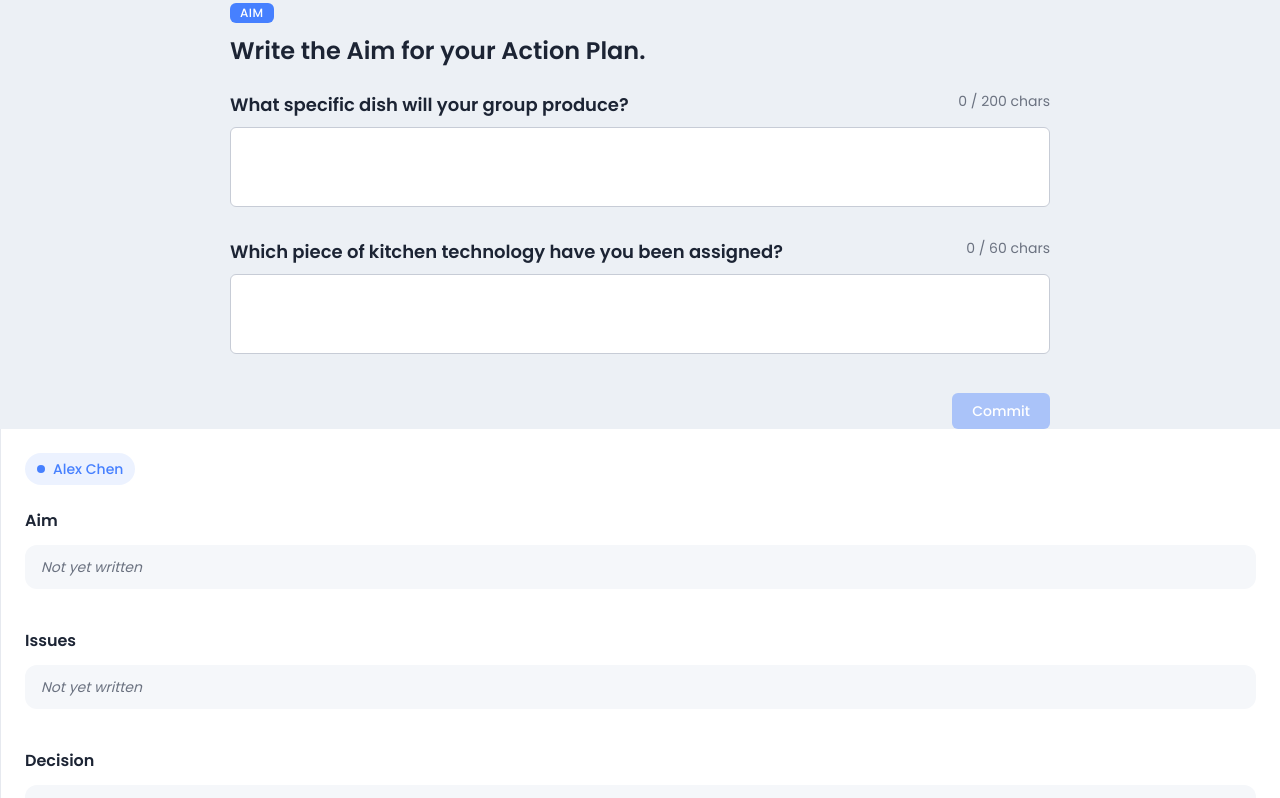
Scenario: SlideScaffold — commit flow › clicking Commit replaces the Commit button with Edit
Type "vanilla custard French toast" into the text box labelled "What specific dish will your group produce?" at (640, 167), box [230,127,1050,207]
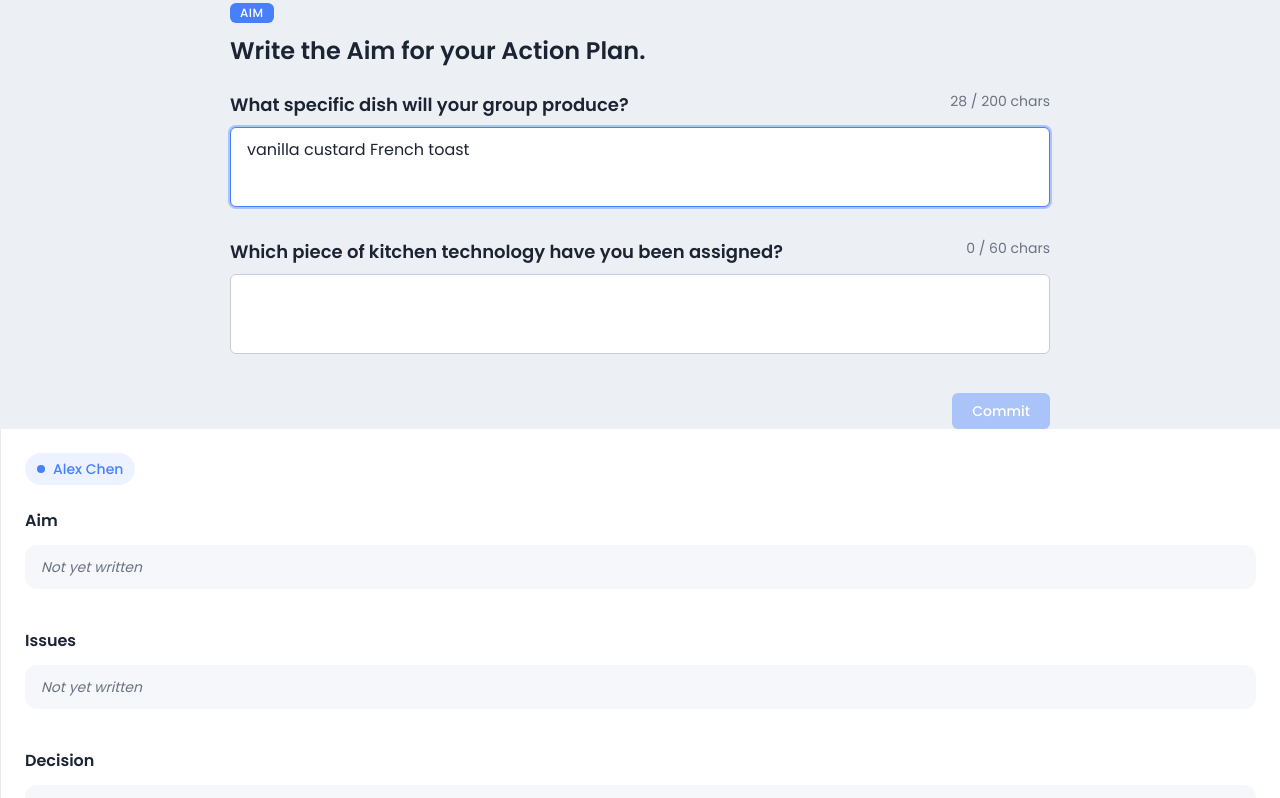
Type "Thermomix" into the text box labelled "Which piece of kitchen technology have you been assigned?" at (640, 314), box [230,274,1050,354]
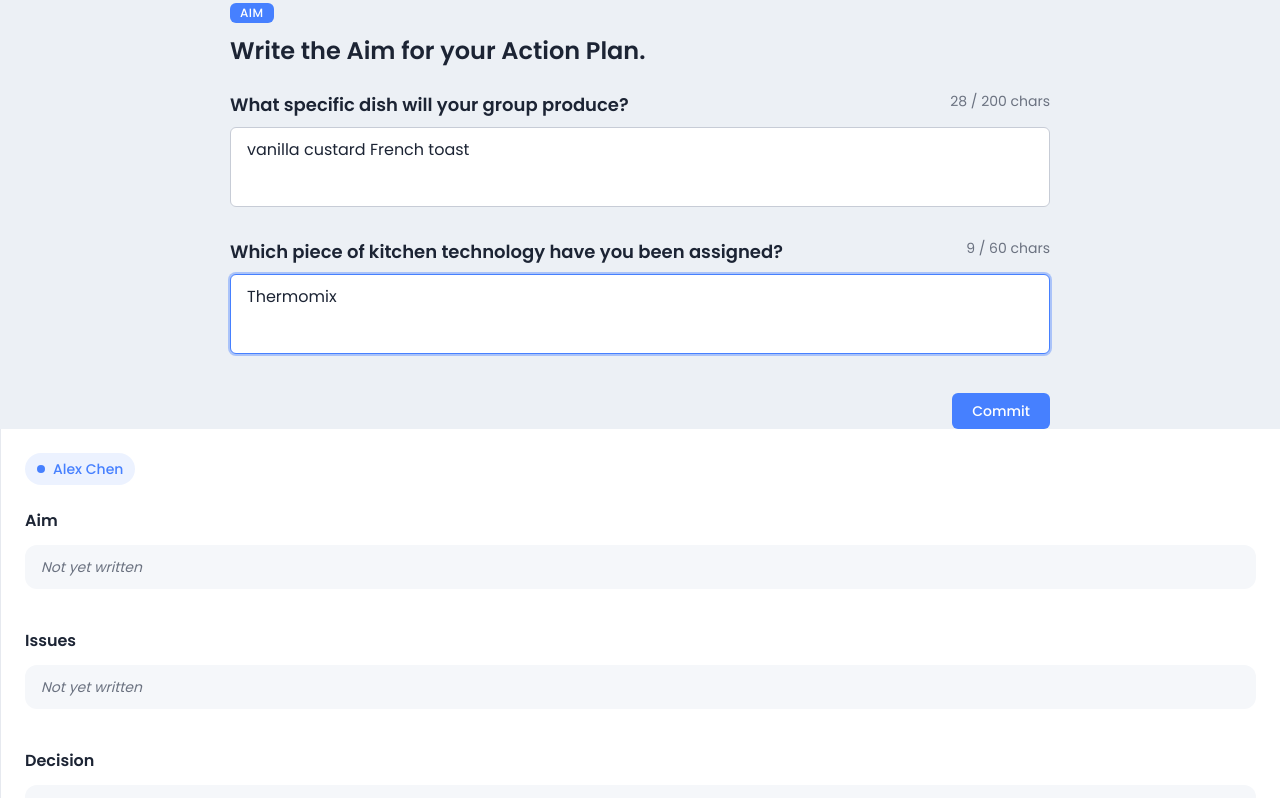
Click the button "Commit" at (1001, 411), box [952,393,1050,429]
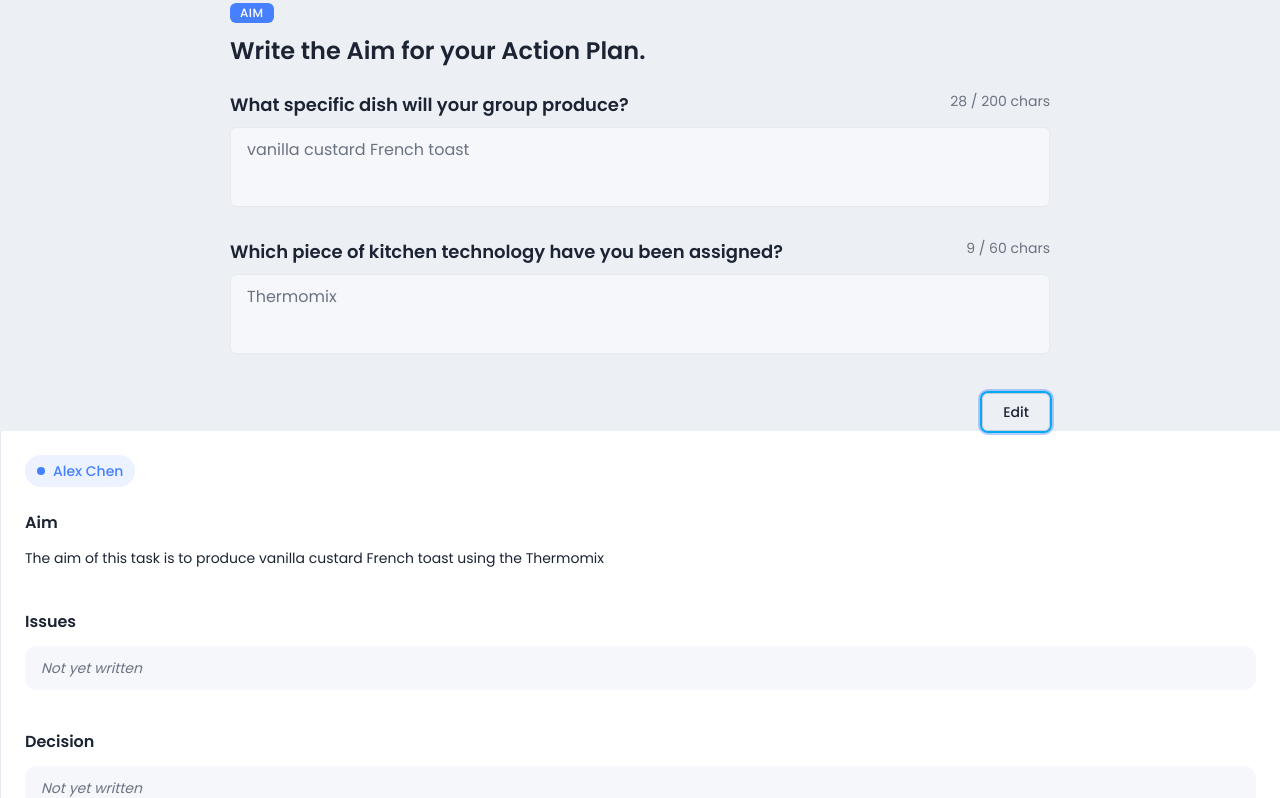
Result: the button "Edit" is shown at [982,393,1050,431]
Result: the button "Commit" is gone
